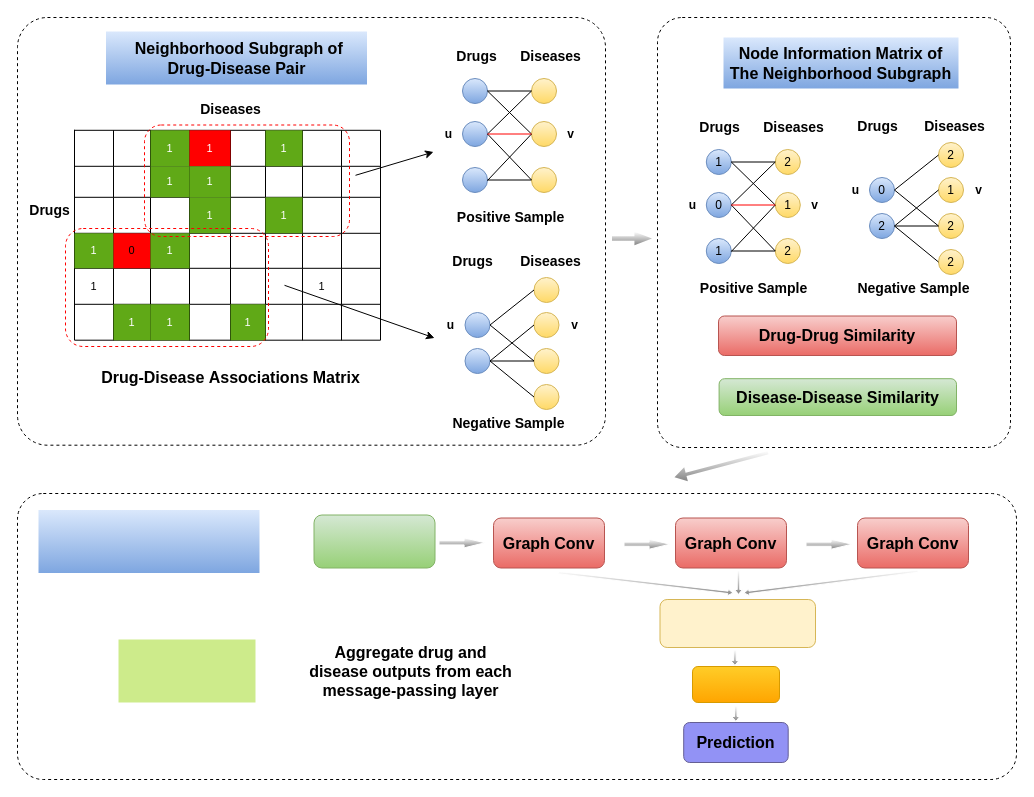
The diagram is 1034 pixels wide and 797 high, and some of its shapes have lost their labels. Each missing label, with the centre of its shape:
"Layer aggregation: Concat+Sum" belongs at [737,623].
"MLP" belongs at [736,684].
"Neighborhood Subgraph" belongs at [374,541].
"Neighborhood Subgraph Encoder And Predictor" belongs at [148,541].
"Traing Loss: BCEloss Function" belongs at [186,670].
